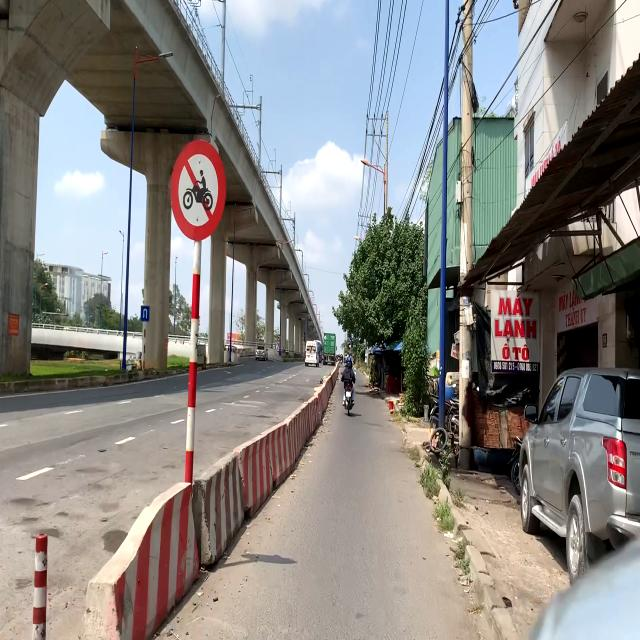P.104: (169, 136, 228, 243)
R.409: (140, 305, 150, 322)
